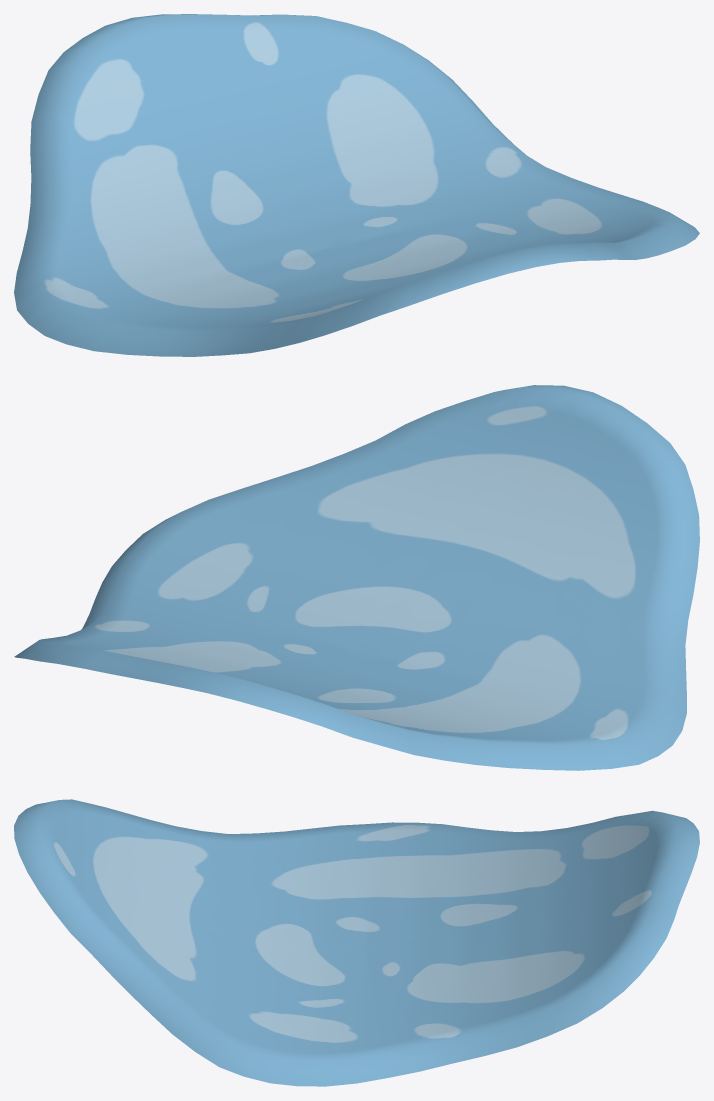
Rendered from Medium Water Puddle.fbx.
3 renders of one model, top to bottom at view 1: azimuth 30°, elevation 25°; view 2: azimuth 150°, elevation 25°; view 3: azimuth 270°, elevation 25°, orthographic. The views are drawn at different scales.
Visible parts, largest first — view 1: Medium; view 2: Medium; view 3: Medium.
Boxes of the visible parts, bbox=[...] form: Medium: bbox=[14, 14, 699, 356]; Medium: bbox=[14, 385, 699, 770]; Medium: bbox=[14, 799, 699, 1086].
Size of the model in its own units: 29.98 by 7.08 by 33.21.
Materials: 1 (1 with a texture image).
